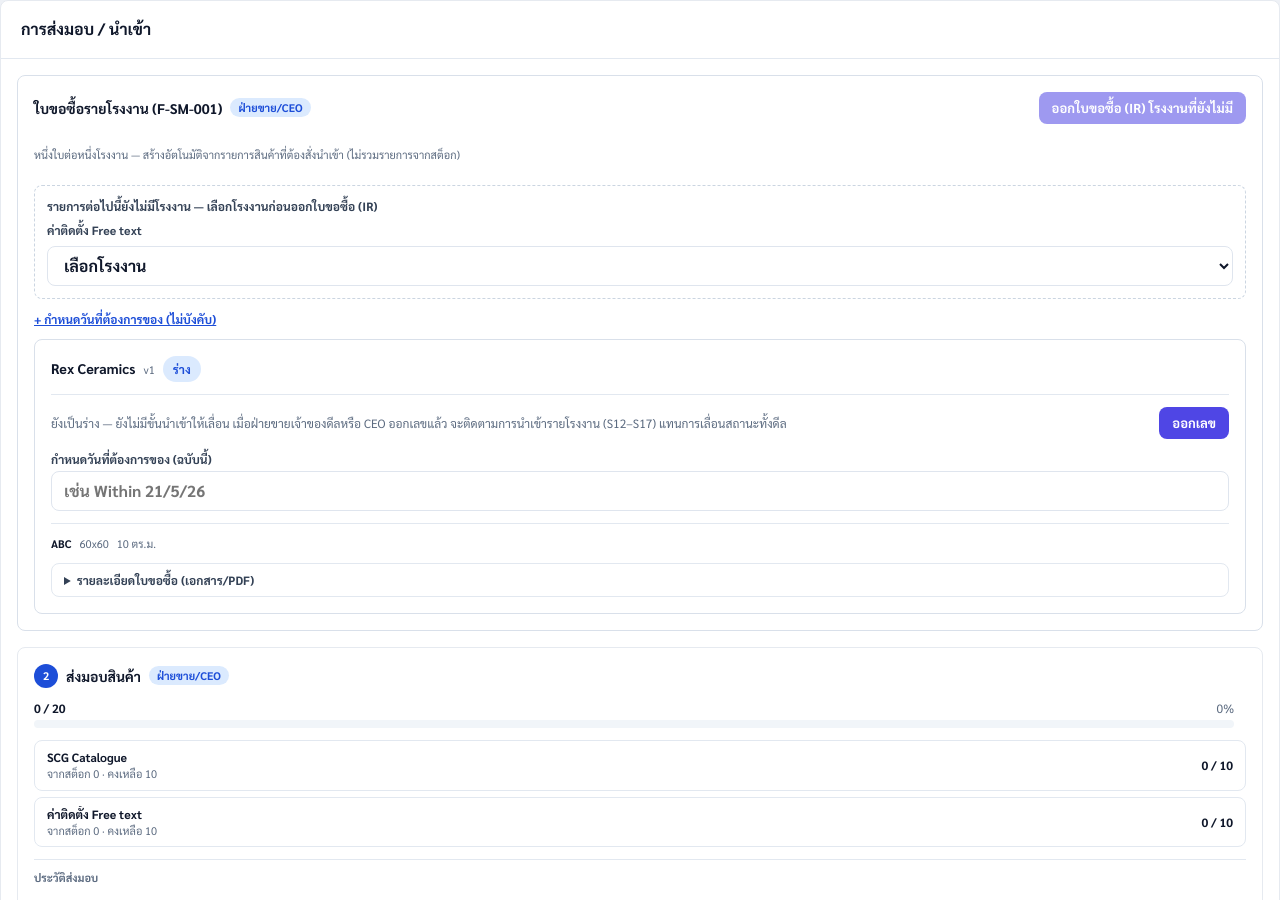
Scenario: DealFulfilmentPanel — ใบขอซื้อรายโรงงาน (V184 stored aggregate) › W3-11 confirm before issuing the ใบขอซื้อ (IR) › a pick whose factory already has a live IR is not counted
Expected: the element with test id "ir-factory-card-10" is shown, [34,339,1246,614]
Select "Rex Ceramics" in the dropdown with test id "ir-line-factory-3": point(640, 266) [47,246,1233,286]
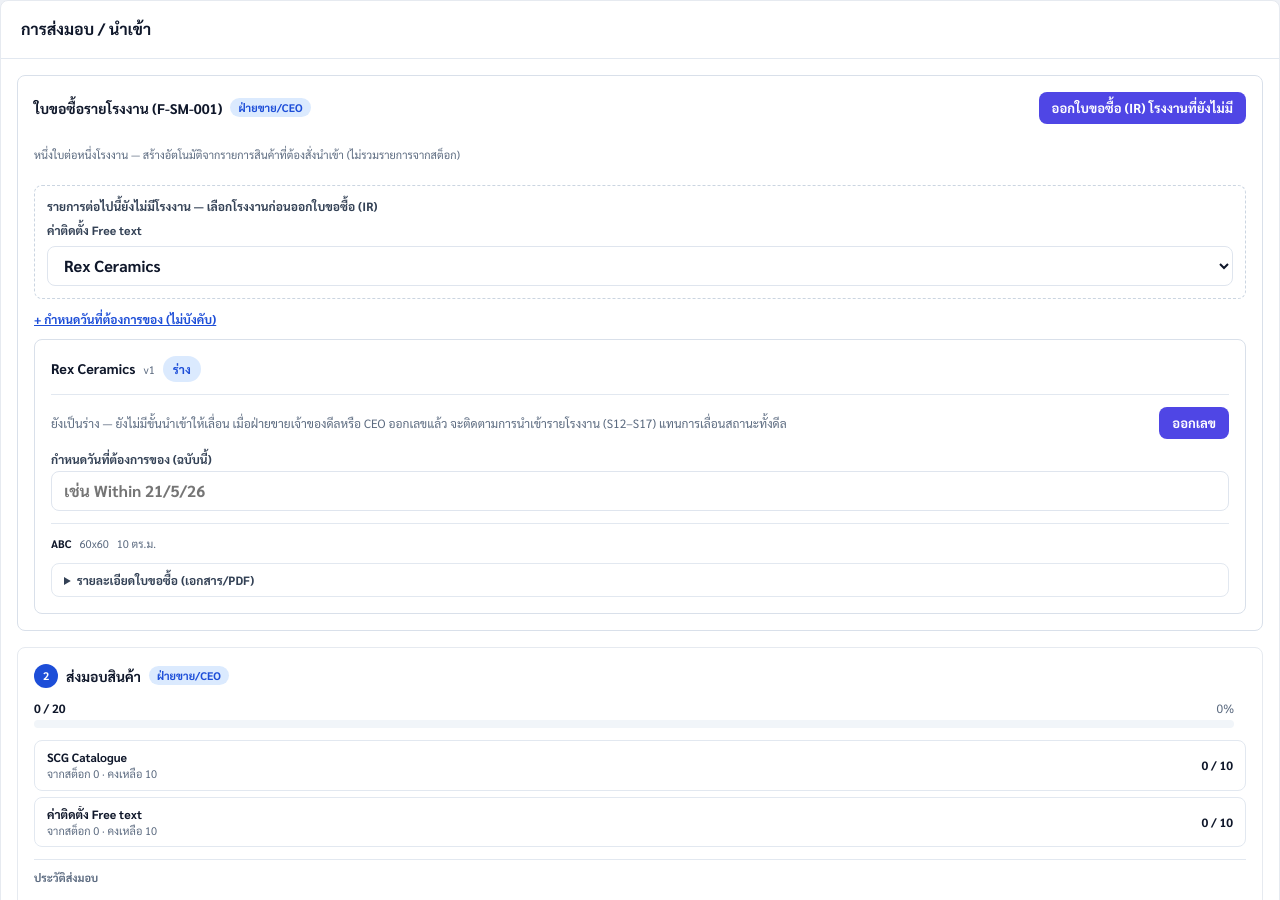
Result: the button with test id "deal-fulfilment-create-ir-drafts" is enabled
Click the button with test id "deal-fulfilment-create-ir-drafts": point(1142, 108) [1039,92,1246,124]
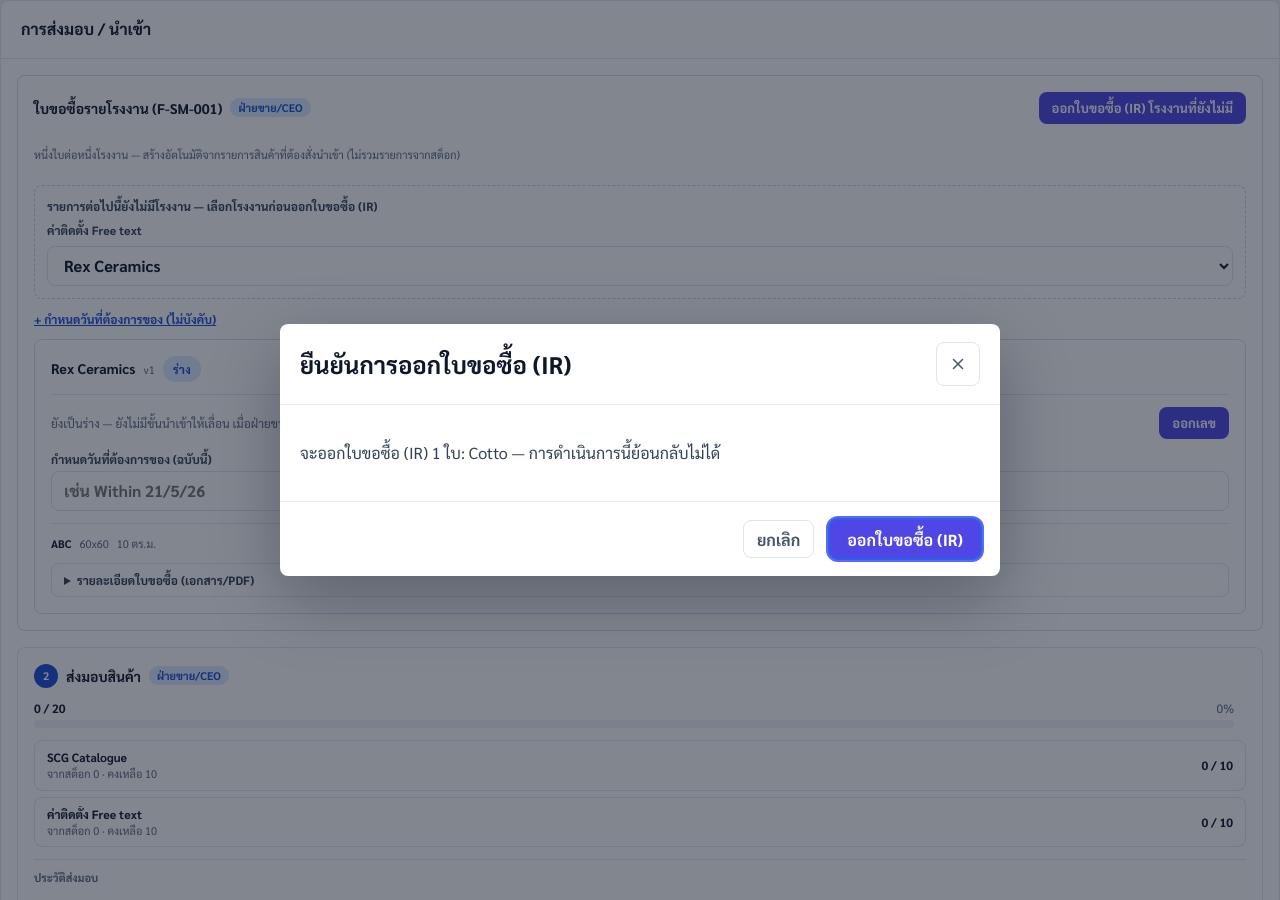
Expected: the dialog "ยืนยันการออกใบขอซื้อ (IR)" does not show "Rex Ceramics"
Result: the dialog "ยืนยันการออกใบขอซื้อ (IR)" shows "จะออกใบขอซื้อ (IR) 1 ใบ: Cotto" at [300,442,720,463]
